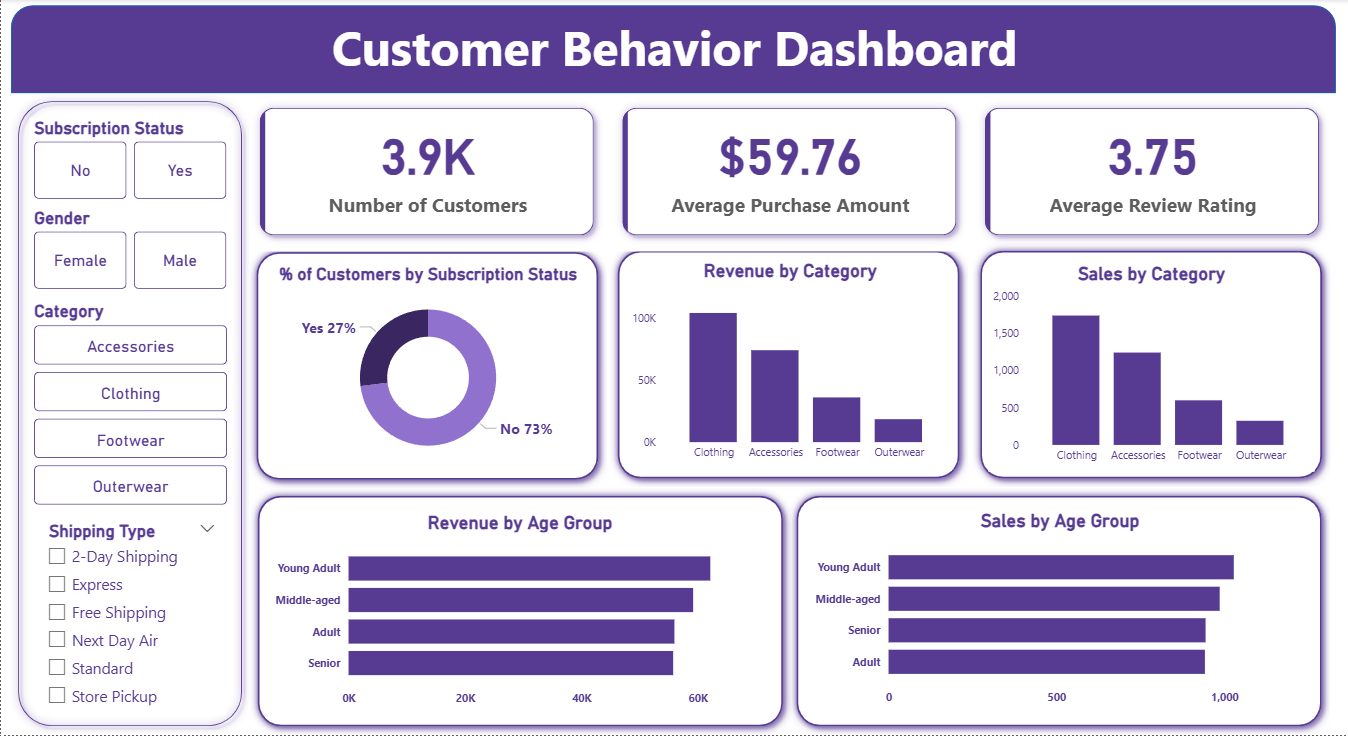

The dashboard page shown, as its layout file describes it:
{"tool":"powerbi","page":{"name":"Customer Behavior Dashboard","canvas":[1500,820],"ordinal":0},"visuals":[{"type":"shape","box":[276.6,545.1,603,275],"z":0},{"type":"shape","box":[678.6,272.1,398.8,271.8],"z":1000},{"type":"shape","box":[275.6,272.8,398.8,271.8],"z":2000},{"type":"cardVisual","fields":{"Data":["customer_behavior.Number of Customers","customer_behavior.Average Purchase Amount","customer_behavior.Average Review Rating"]},"box":[271.8,104.5,1215.7,176.9],"z":3000},{"type":"shape","box":[11.3,6.4,1476.2,98.1],"z":4000},{"type":"textbox","box":[131.9,12.9,1236.6,88.4],"z":5000},{"type":"donutChart","title":"% of Customers by Subscription Status","fields":{"Category":["customer_behavior.subscription_status"],"Y":["customer_behavior.Number of Customers"]},"box":[299.1,294.7,353.1,231.9],"z":6000},{"type":"clusteredColumnChart","title":"Revenue by Category","fields":{"Y":["Sum(customer_behavior.purchase_amount)"],"Category":["customer_behavior.category"]},"box":[697.9,291.4,363.4,232.8],"z":7000},{"type":"shape","box":[1082.2,272.1,398.8,271.8],"z":8000},{"type":"clusteredColumnChart","title":"Sales by Category","fields":{"Y":["CountNonNull(customer_behavior.customer_id)"],"Category":["customer_behavior.category"]},"box":[1099.9,294,363.4,233.2],"z":9000},{"type":"shape","box":[11.3,106.1,265.3,712.3],"z":10000},{"type":"advancedSlicerVisual","fields":{"Values":["customer_behavior.subscription_status"]},"box":[32.2,131.9,225.1,96.5],"z":11000},{"type":"advancedSlicerVisual","fields":{"Values":["customer_behavior.gender"]},"box":[32.2,233.2,225.1,96.5],"z":12000},{"type":"advancedSlicerVisual","fields":{"Values":["customer_behavior.category"]},"box":[32.2,337.7,225.1,233.8],"z":13000},{"type":"slicer","fields":{"Values":["customer_behavior.shipping_type"]},"box":[40.2,576,210.7,221.6],"z":14000},{"type":"clusteredBarChart","title":"Revenue by Age Group","fields":{"Category":["customer_behavior.age_group"],"Y":["Sum(customer_behavior.purchase_amount)"]},"box":[299.1,570.9,558,226.7],"z":15000},{"type":"shape","box":[878,545.1,603,275],"z":16000},{"type":"clusteredBarChart","title":"Sales by Age Group","fields":{"Category":["customer_behavior.age_group"],"Y":["CountNonNull(customer_behavior.customer_id)"]},"box":[900.5,569.3,558,226.7],"z":17000}]}

Visuals, with their boxes in screenshot pixels (x1, y1, x2, y2), scaled from the page's 1500x820 canvas onto the 1348x736 screenshot:
shape: (249, 489, 790, 735)
shape: (610, 244, 968, 488)
shape: (248, 245, 606, 489)
cardVisual - customer_behavior.Number of Customers x customer_behavior.Average Purchase Amount: (244, 94, 1337, 253)
shape: (10, 6, 1337, 94)
textbox: (119, 12, 1230, 91)
"% of Customers by Subscription Status" donutChart: (269, 265, 586, 473)
"Revenue by Category" clusteredColumnChart: (627, 262, 954, 471)
shape: (973, 244, 1331, 488)
"Sales by Category" clusteredColumnChart: (988, 264, 1315, 473)
shape: (10, 95, 249, 735)
advancedSlicerVisual - customer_behavior.subscription_status: (29, 118, 231, 205)
advancedSlicerVisual - customer_behavior.gender: (29, 209, 231, 296)
advancedSlicerVisual - customer_behavior.category: (29, 303, 231, 513)
slicer - customer_behavior.shipping_type: (36, 517, 225, 716)
"Revenue by Age Group" clusteredBarChart: (269, 512, 770, 716)
shape: (789, 489, 1331, 735)
"Sales by Age Group" clusteredBarChart: (809, 511, 1311, 714)
